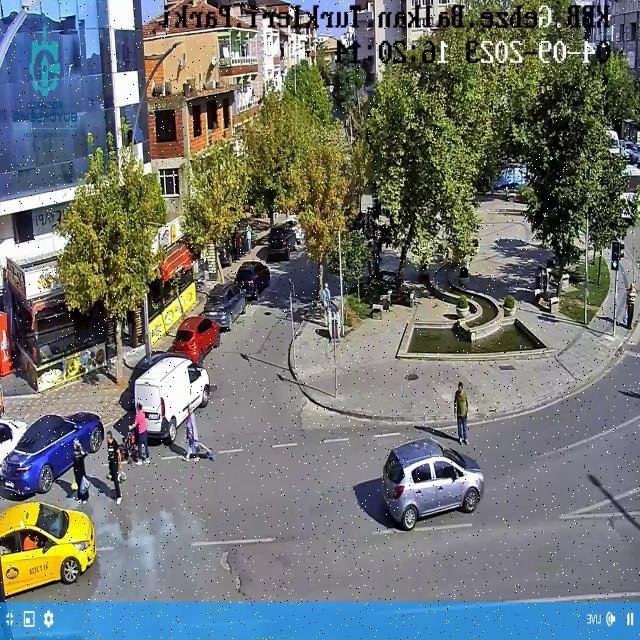Car: (381, 436, 486, 534), (1, 501, 98, 601), (2, 412, 103, 496), (172, 316, 220, 363), (200, 283, 247, 329), (234, 260, 271, 300), (266, 224, 298, 262)
Van: (130, 357, 212, 447)
